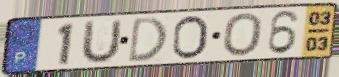1: (55, 21, 76, 66)
6: (266, 9, 300, 56)
D: (126, 15, 169, 65)
O: (220, 11, 265, 58), (170, 14, 210, 61)
U: (78, 17, 124, 66)
